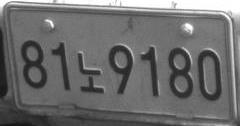0: (196, 49, 222, 101)
1: (138, 46, 164, 96), (50, 42, 74, 90)
8: (20, 39, 47, 88), (168, 47, 193, 99)
9: (108, 44, 134, 95)
노: (77, 52, 104, 93)
